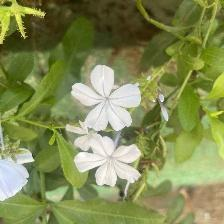chitrak: (74, 64, 139, 136), (75, 133, 142, 189), (1, 144, 37, 204)
